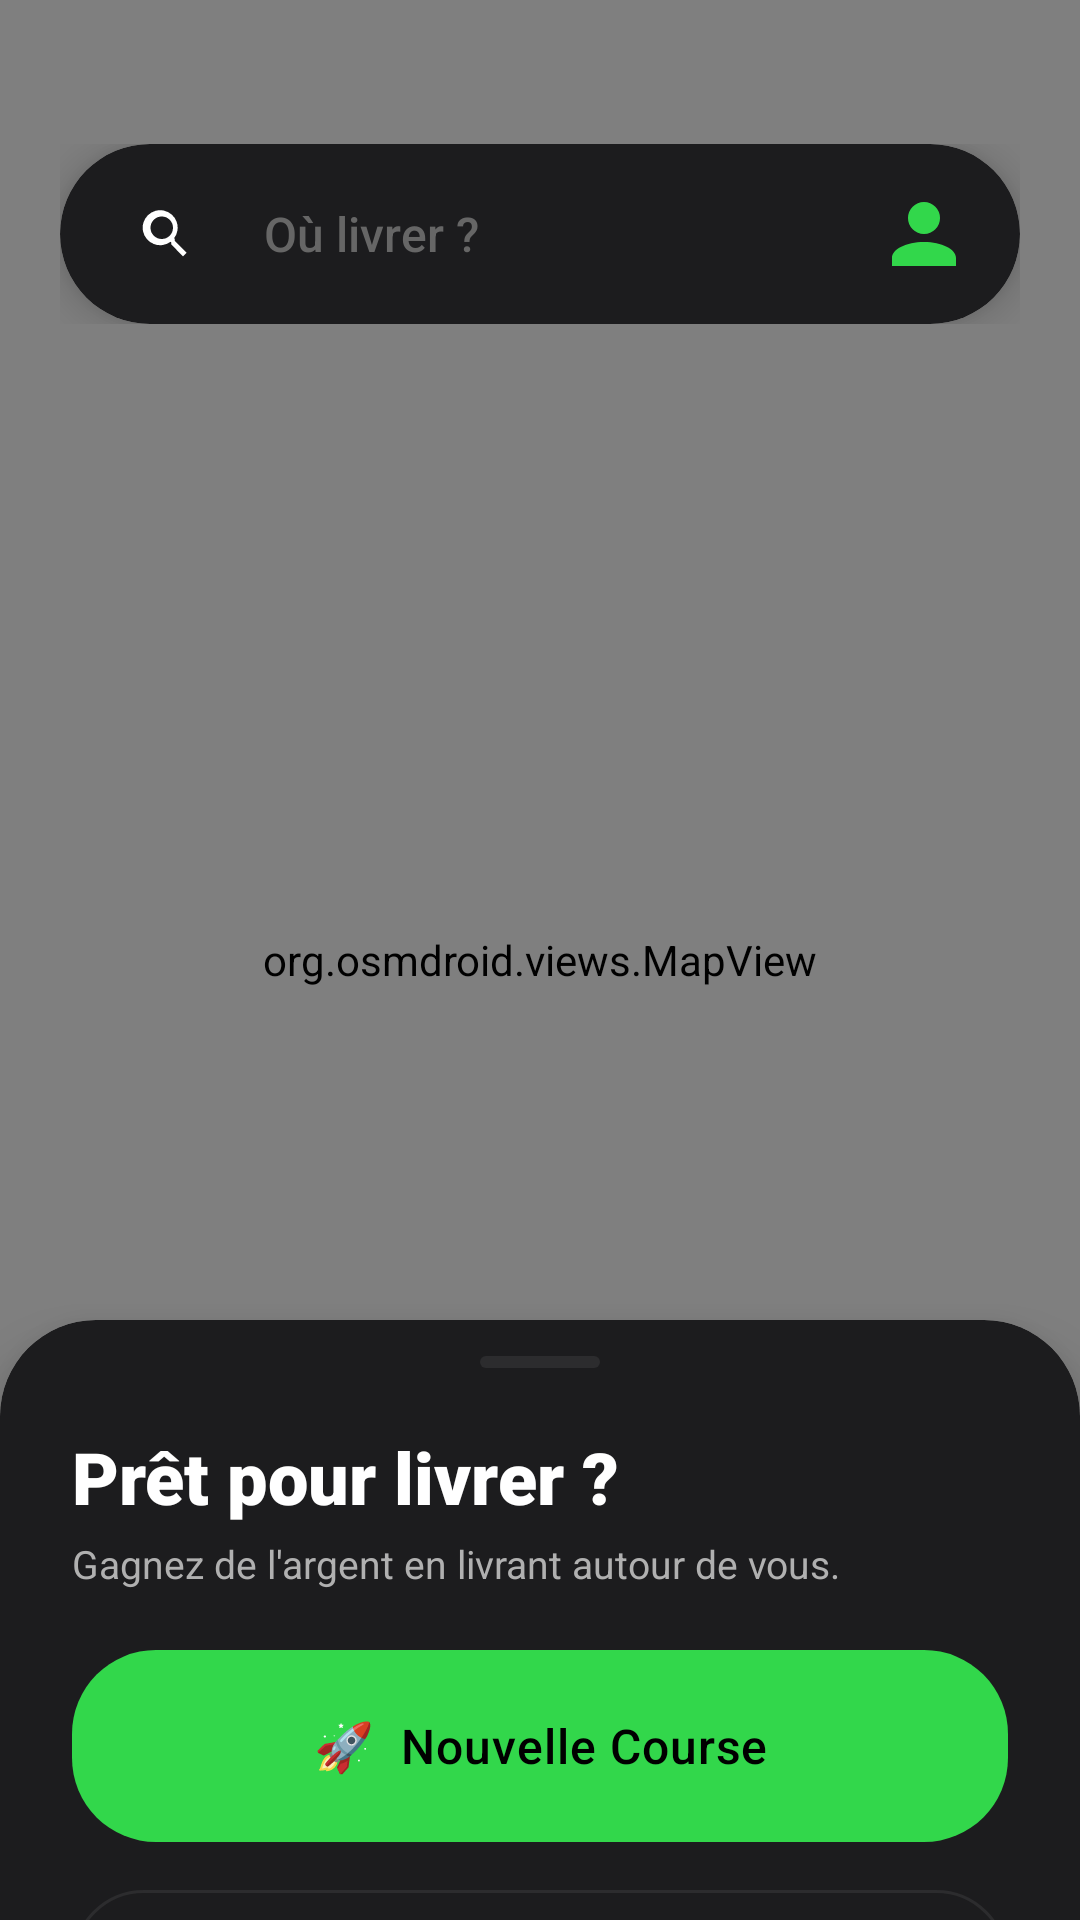

Icons on this 1080 × 1920 Android screen, each with the point to tap as [x,y]:
profile: [924,234]
search: [164,233]
